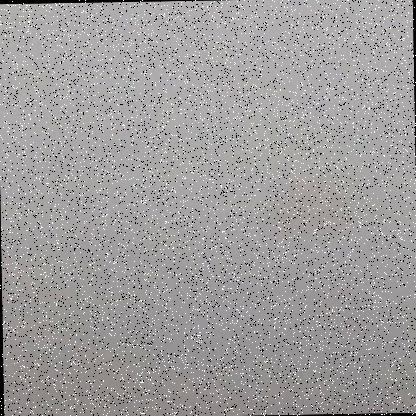Nocrack: (21, 24, 396, 399)
